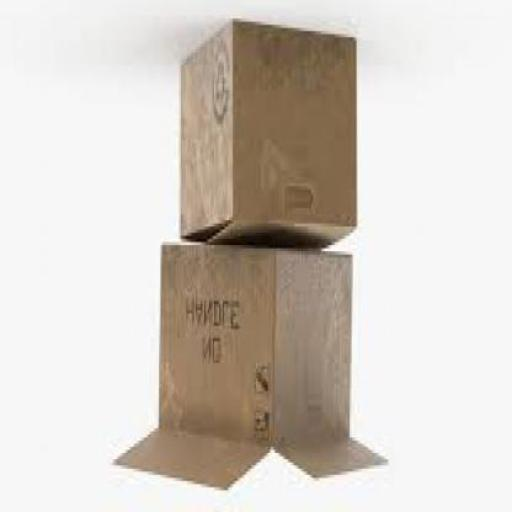cardboard: (111, 248, 386, 494), (179, 18, 356, 245)
